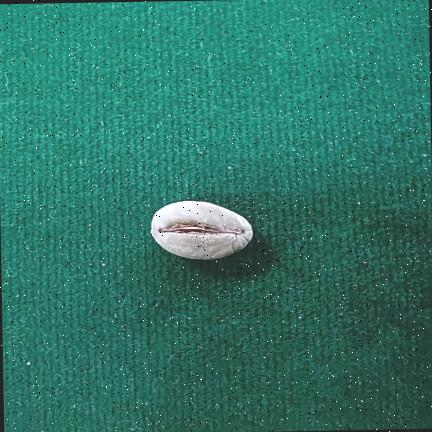husk: (151, 200, 253, 260)
